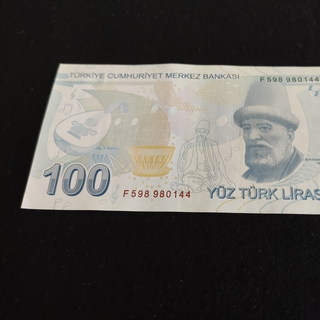100TLBack: (20, 62, 320, 216)
